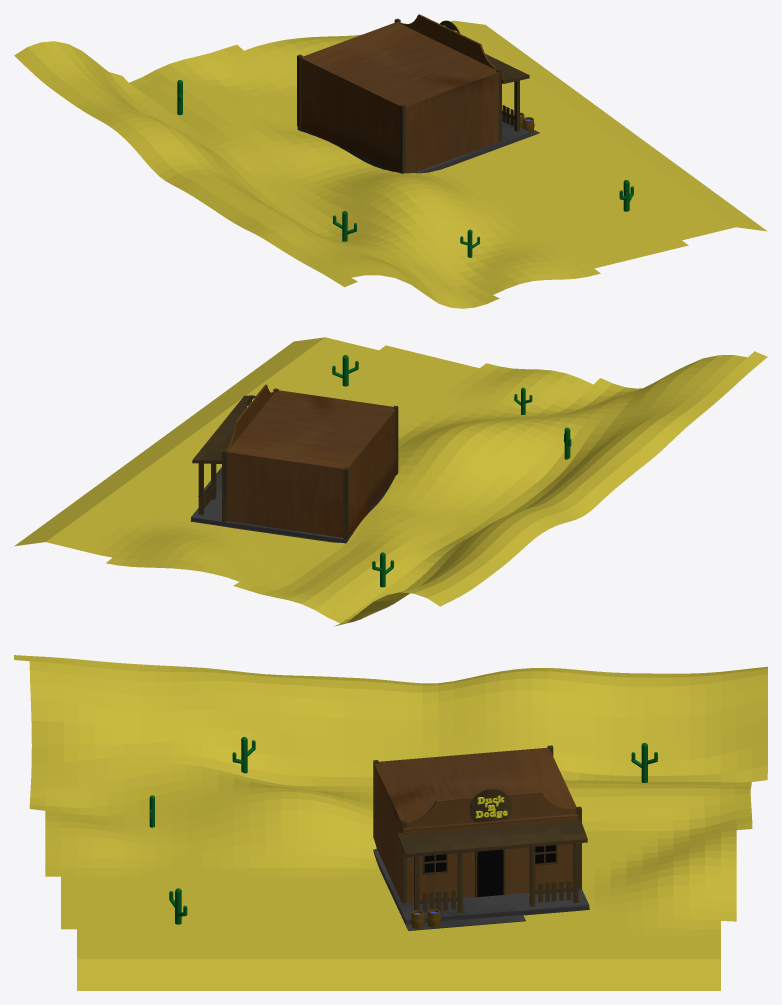
Rendered from saloon.gltf.
3 renders of one model, top to bottom at view 1: azimuth 30°, elevation 25°; view 2: azimuth 150°, elevation 25°; view 3: azimuth 270°, elevation 25°, orthographic. The views are drawn at different scales.
Visible parts, largest first — view 1: Plane, Cube.002; view 2: Plane, Cube.002; view 3: Plane, Cube.002.
Part boxes in pixels (x1,y1,x2,y2): Plane: (14, 20, 767, 308); Cube.002: (297, 14, 539, 173); Plane: (14, 337, 767, 626); Cube.002: (190, 384, 398, 543); Plane: (14, 655, 767, 990); Cube.002: (373, 745, 589, 930).
Size of the model in its own units: 68.85 by 16.1 by 87.41.
22 materials, 9 textured.
